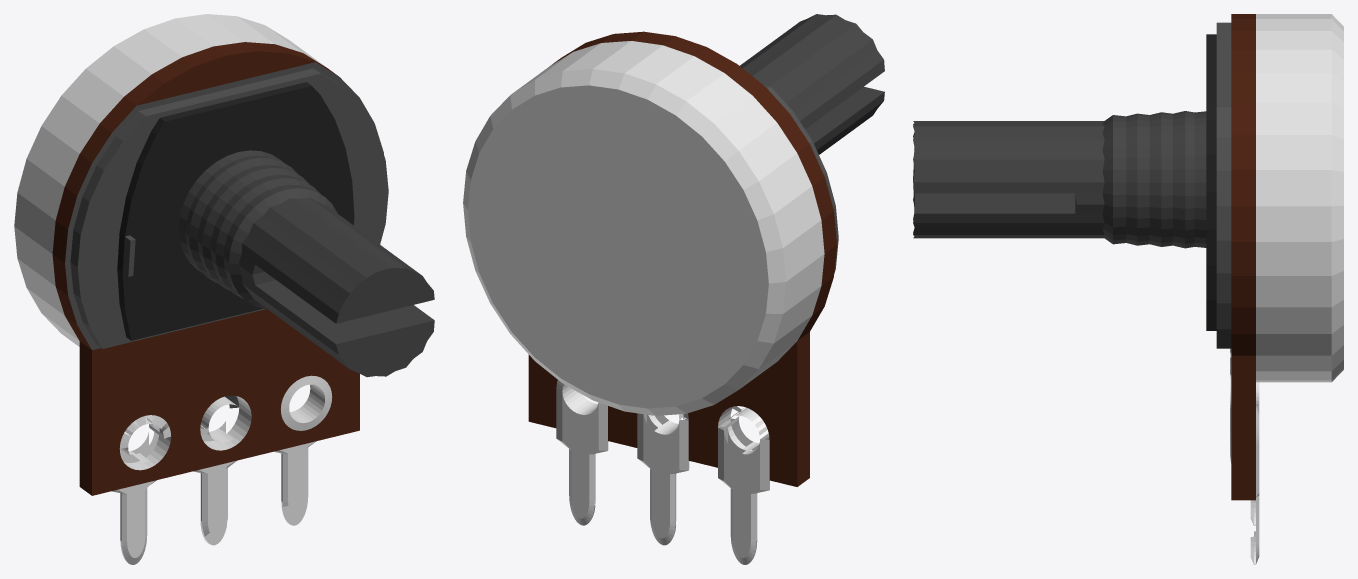
The model's file is potmeter.gltf.
The picture shows the model from 3 angles, left to right: view 1: azimuth 30°, elevation 25°; view 2: azimuth 150°, elevation 25°; view 3: azimuth 270°, elevation 25°; orthographic projection.
Parts seen in each view (by area): view 1: Cylinder, Cylinder.001; view 2: Cylinder, Cylinder.001; view 3: Cylinder, Cylinder.001.
Boxes of the visible parts, left/top/right/bottom form: Cylinder: left=14, top=14, right=388, bottom=564; Cylinder.001: left=178, top=150, right=434, bottom=377; Cylinder: left=463, top=31, right=838, bottom=564; Cylinder.001: left=740, top=14, right=884, bottom=154; Cylinder: left=1206, top=14, right=1343, bottom=564; Cylinder.001: left=913, top=111, right=1206, bottom=248.
Bounding box in the file's own units: 2 × 2.96 × 2.34.
